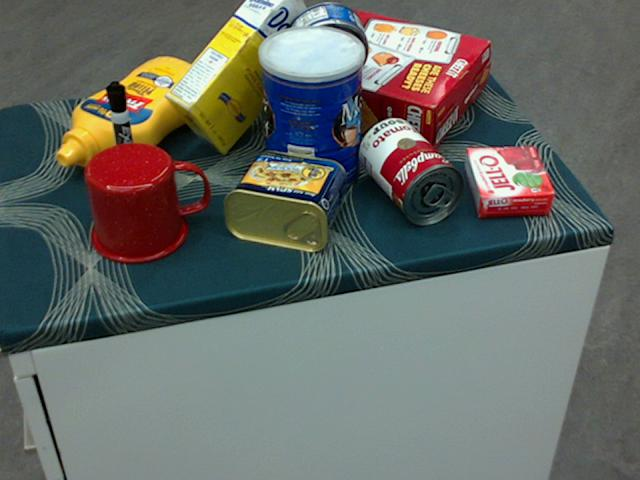cracker_box: (260, 2, 487, 154)
gelatin_box: (462, 146, 554, 216)
large_marker: (104, 82, 141, 191)
master_chef_can: (258, 26, 363, 197)
mug: (85, 141, 209, 263)
mustard_bottle: (55, 57, 212, 166)
potted_meat_can: (222, 150, 345, 251)
sugar_box: (163, 0, 321, 156)
tomato_soup_can: (358, 116, 463, 224)
tuna_fish_can: (284, 1, 368, 85)
